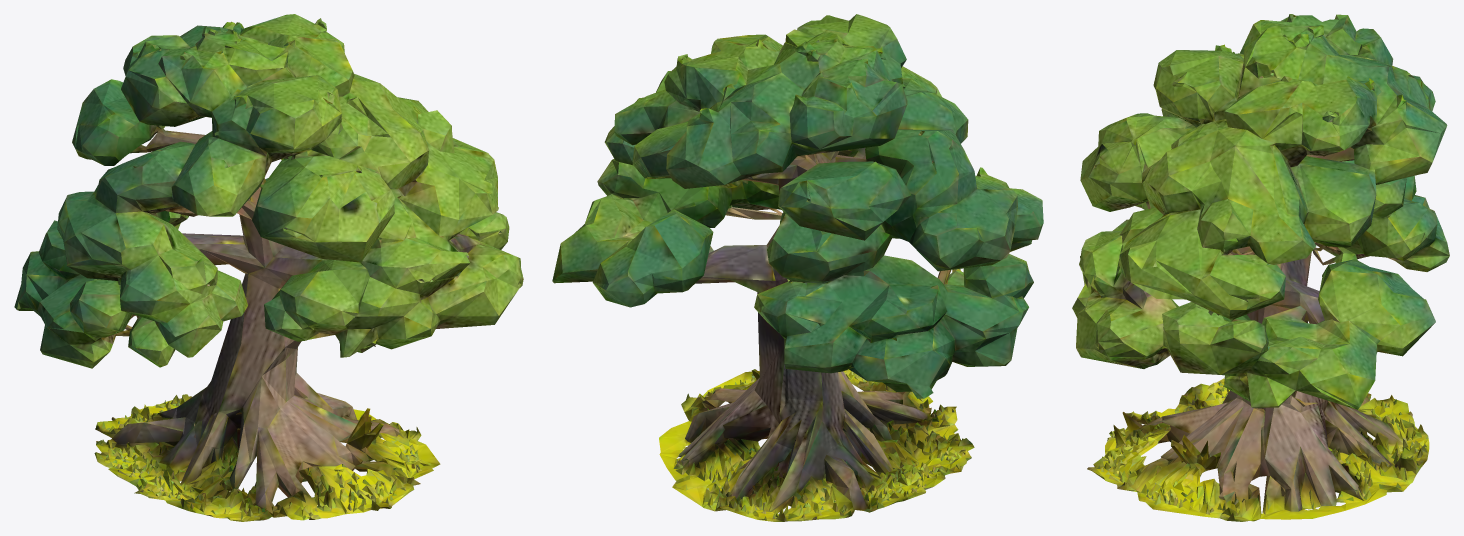
The model's file is nature_oak_large_01.glb.
3 views of the same model, side by side, from view 1: azimuth 30°, elevation 25°; view 2: azimuth 150°, elevation 25°; view 3: azimuth 270°, elevation 25° (orthographic).
Parts seen in each view (by area): view 1: geometry_0; view 2: geometry_0; view 3: geometry_0.
Boxes of the visible parts, x1,y1,x2,y2 form: geometry_0: (14, 14, 523, 521); geometry_0: (552, 14, 1043, 521); geometry_0: (1072, 14, 1449, 521).
Size of the model in its own units: 0.9982 by 0.9699 by 0.7714.
Materials: 1 (1 with a texture image).
